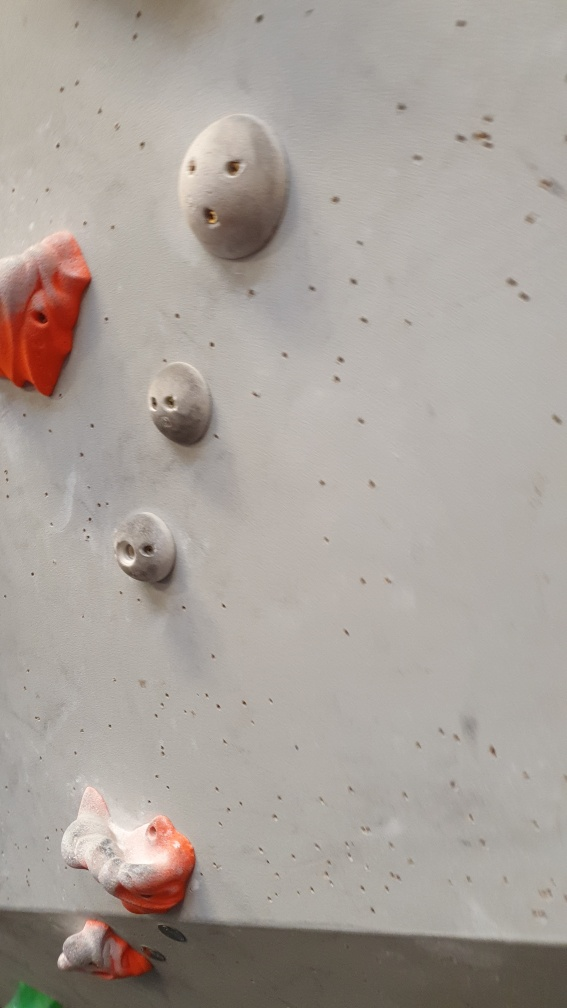Hand Start: (159, 923, 192, 948), (141, 941, 168, 967)
Jug: (62, 785, 199, 913), (1, 225, 99, 398), (52, 916, 160, 988)
Sloper: (179, 107, 294, 267), (145, 357, 217, 450), (115, 507, 177, 590)
